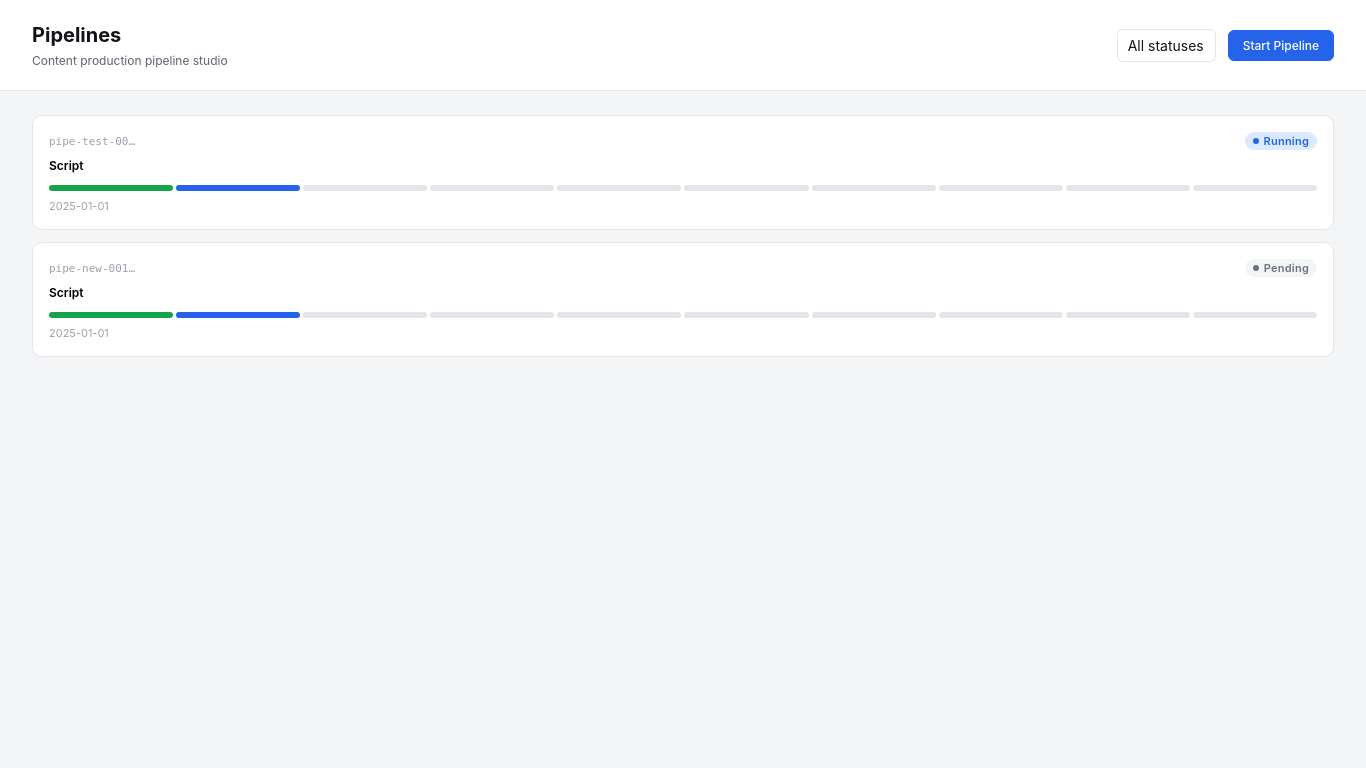
Scenario: Start Pipeline › submits and refreshes list after successful start
Click the button "Start Pipeline" at {"x": 1281, "y": 45}, box 1228,30 -> 1334,60
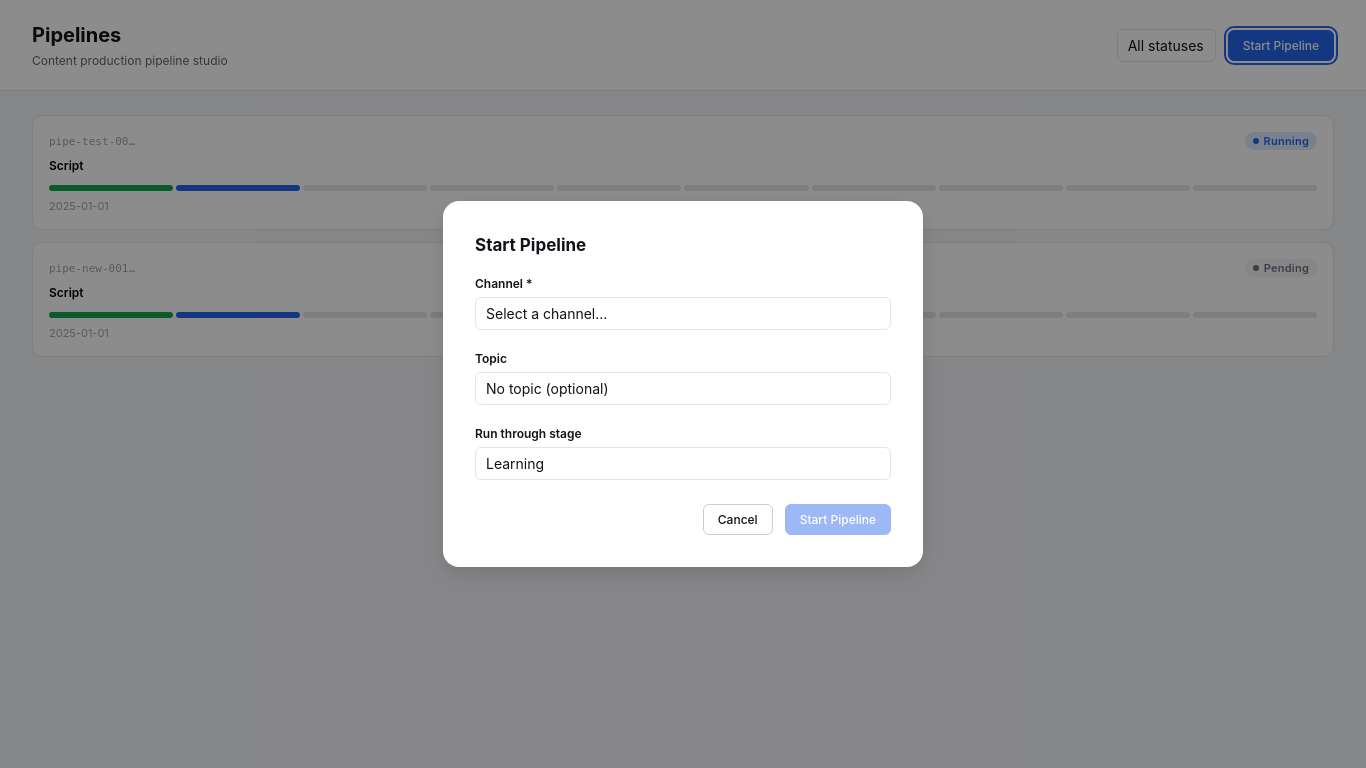
Note: Select a channel in the dropdown
Select "Channel Alpha" in the dropdown labelled "Channel *" at {"x": 683, "y": 313}, box 475,297 -> 891,330
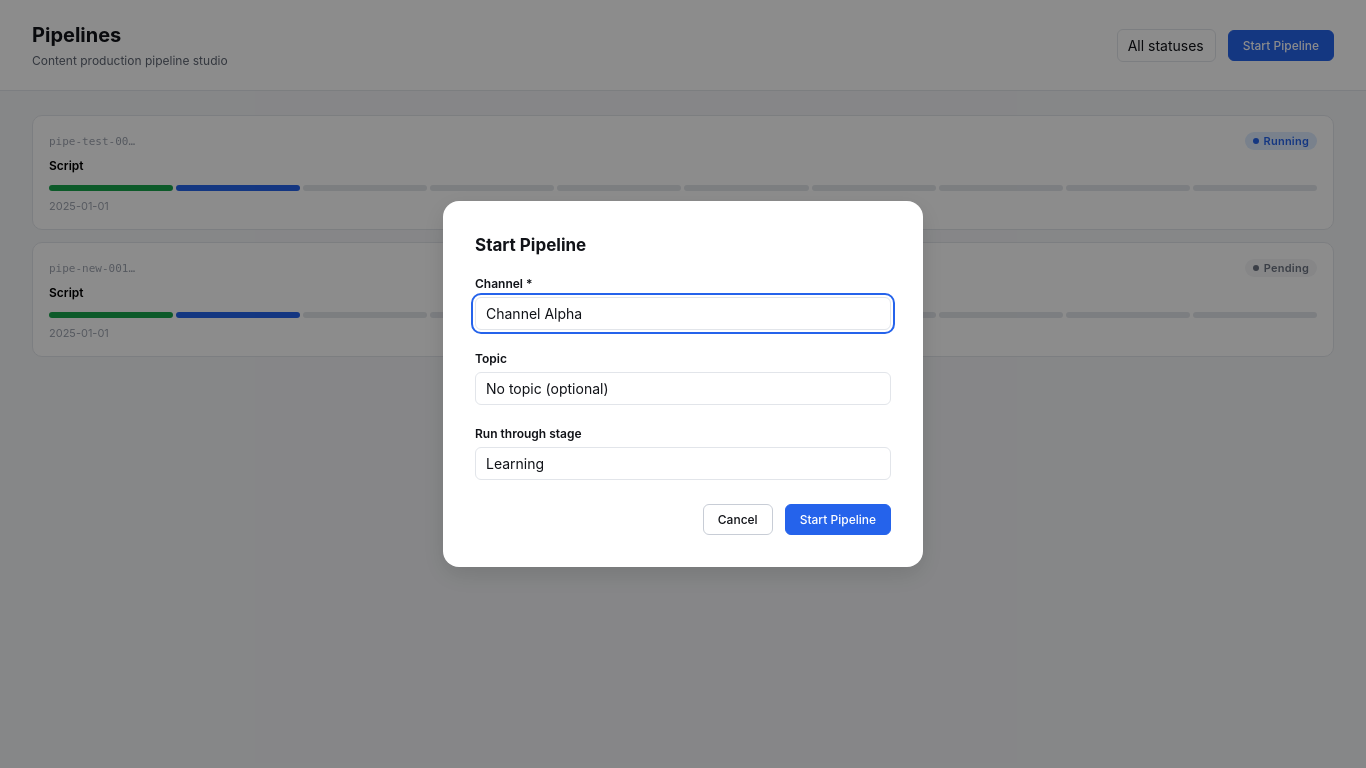
Click the button "Start Pipeline" at {"x": 838, "y": 519}, box 785,504 -> 891,535
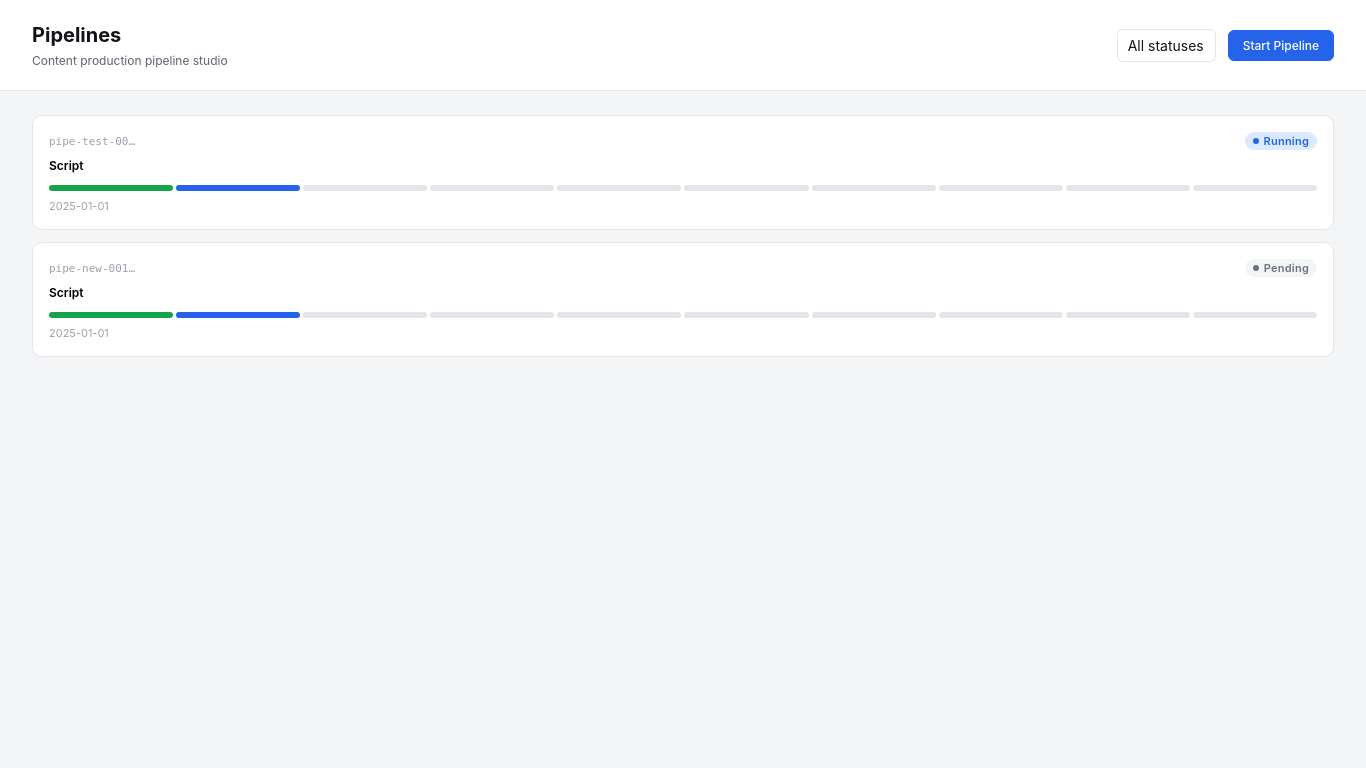
Result: the dialog is gone
